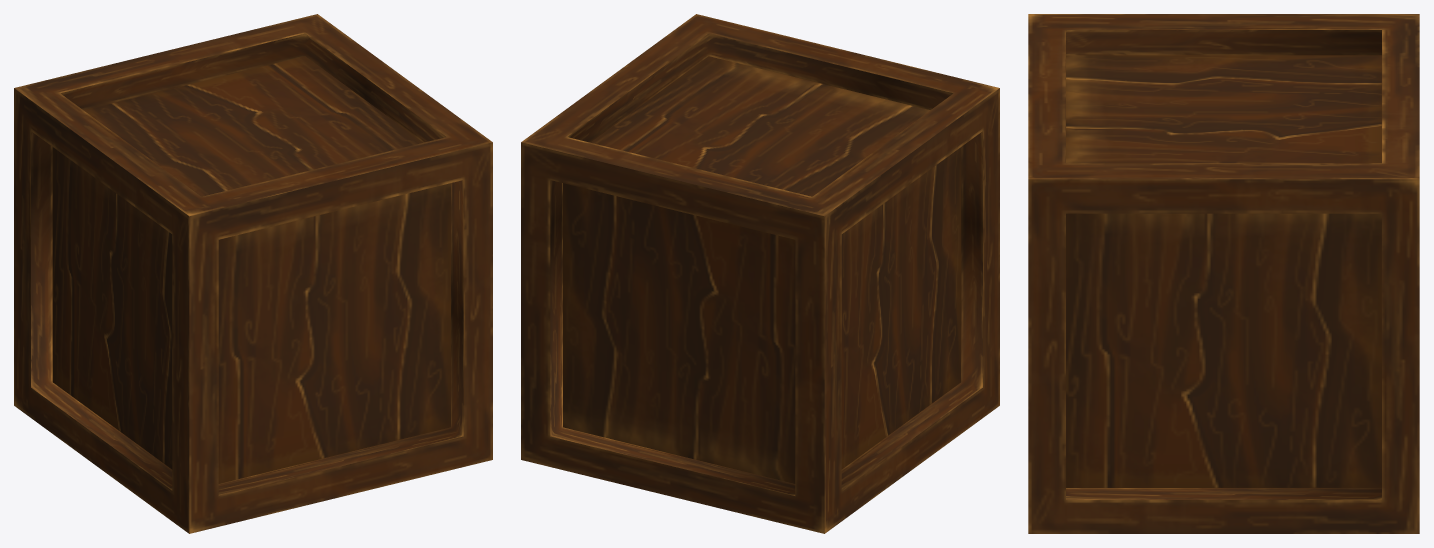
Rendered from Caja_Originales_Oscuro.fbx.
The picture shows the model from 3 angles, left to right: view 1: azimuth 30°, elevation 25°; view 2: azimuth 150°, elevation 25°; view 3: azimuth 270°, elevation 25°; orthographic projection. The views are drawn at different scales.
Parts seen in each view (by area): view 1: Caja_Originales_Oscuro; view 2: Caja_Originales_Oscuro; view 3: Caja_Originales_Oscuro.
Part boxes in pixels (x1,y1,x2,y2): Caja_Originales_Oscuro: (14,14,492,533); Caja_Originales_Oscuro: (521,14,999,533); Caja_Originales_Oscuro: (1028,14,1419,533).
Size of the model in its own units: 68.2 by 68.2 by 68.2.
